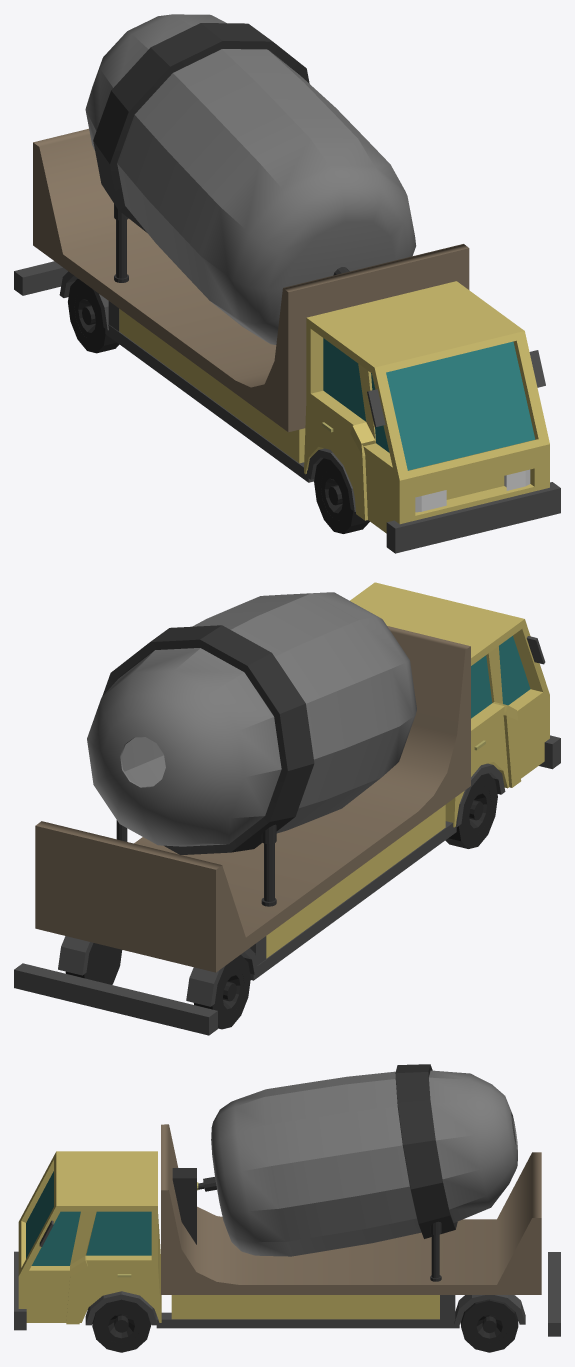
Rendered from Truck_3.fbx.
The picture shows the model from 3 angles, top to bottom: view 1: azimuth 30°, elevation 25°; view 2: azimuth 150°, elevation 25°; view 3: azimuth 270°, elevation 25°; orthographic projection. The views are drawn at different scales.
Visible parts, largest first — view 1: pCube66; view 2: pCube66; view 3: pCube66.
Part boxes in pixels (box(x1,y1,x2,y2)): pCube66: box(14, 14, 560, 553); pCube66: box(14, 582, 560, 1035); pCube66: box(14, 1064, 560, 1352).
Bounding box in the file's own units: 1.37 × 2.16 × 4.23.
